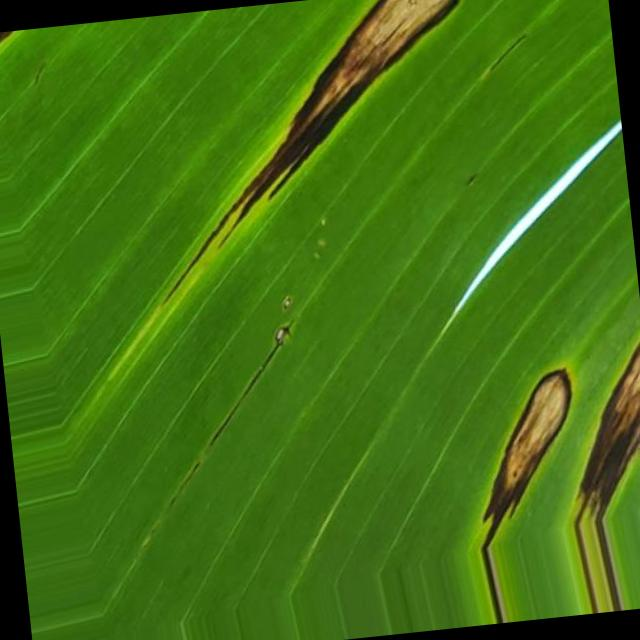Banana_Black_Sigatoka: (114, 0, 604, 243), (453, 299, 640, 606)
